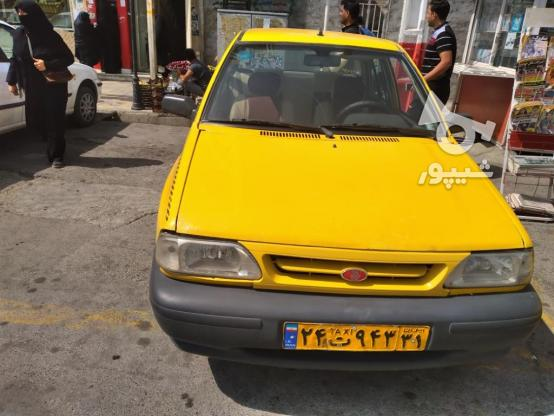car: (280, 326, 433, 355)
